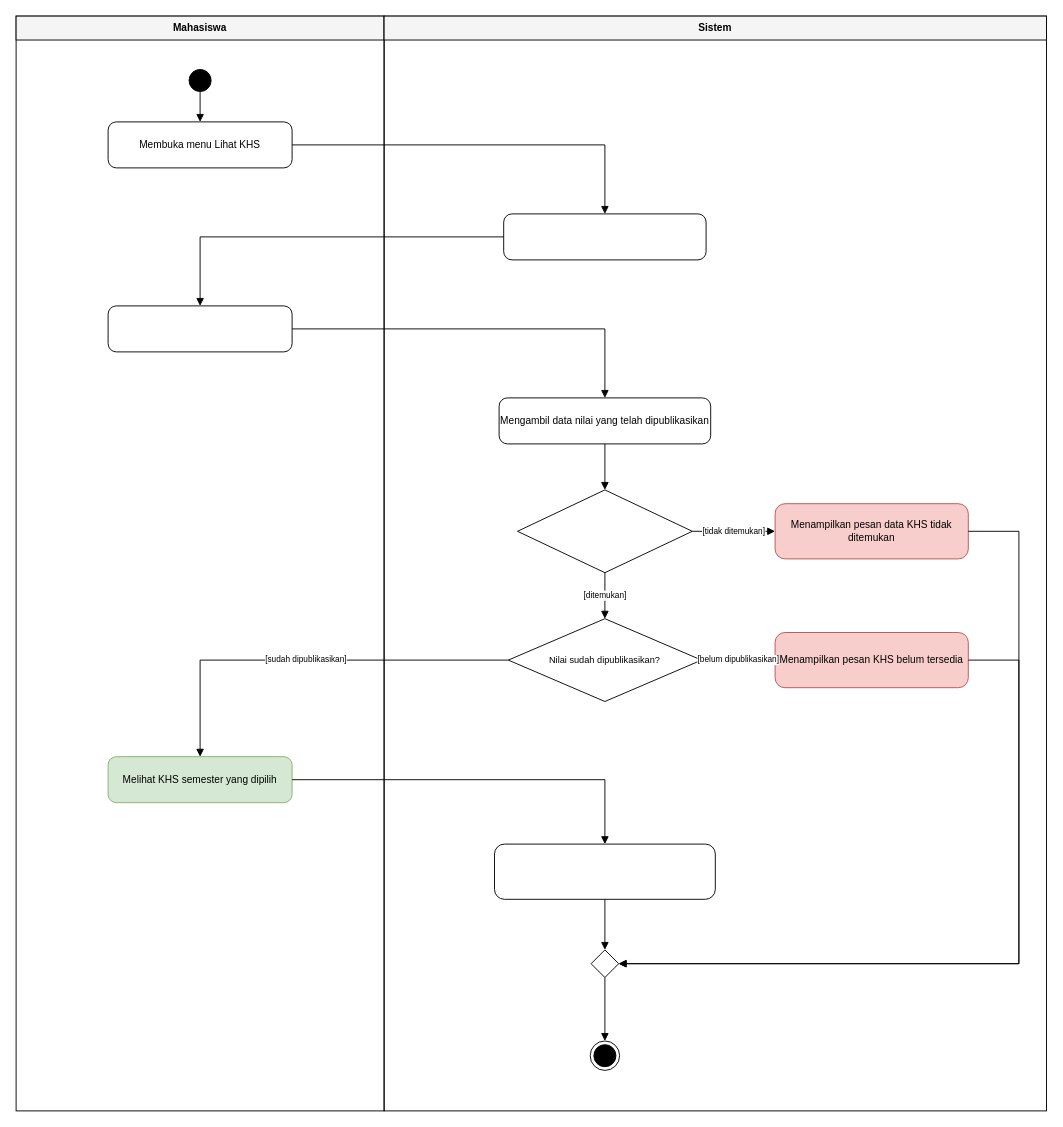
The diagram is 1063 pixels wide and 1127 high, and some of its shapes have lost their labels. The shapes that lost their labels are listed below. From the top down, each one's box as (x1, y1, x2, y2) in pixels, then its label:
(503, 213, 706, 260): Menampilkan daftar semester yang tersedia
(107, 305, 292, 352): Memilih semester yang ingin dilihat
(517, 489, 692, 573): Data KHS ditemukan?
(494, 843, 715, 899): Menampilkan daftar mata kuliah dan nilai yang telah dipublikasikan
